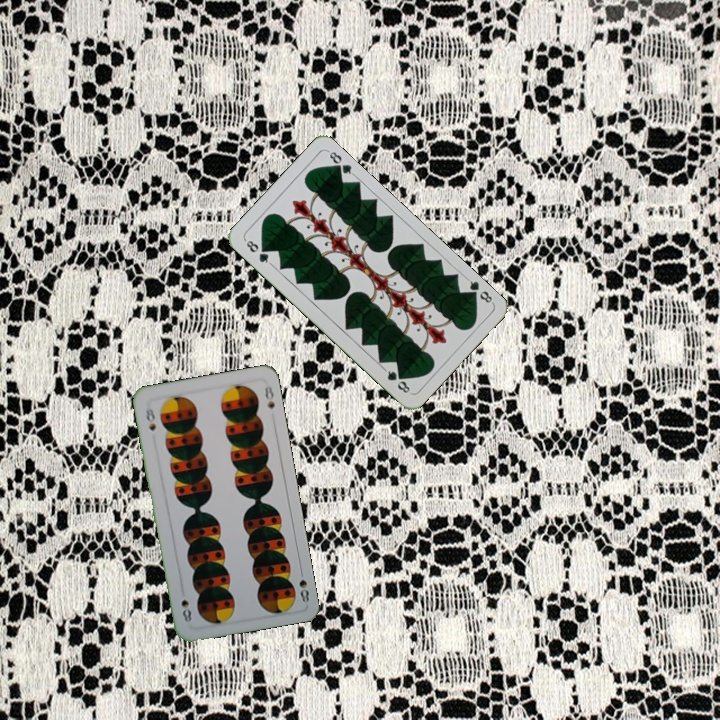G8: (463, 274, 496, 306), (241, 236, 274, 267)
S8: (295, 565, 312, 605), (142, 401, 159, 433)
